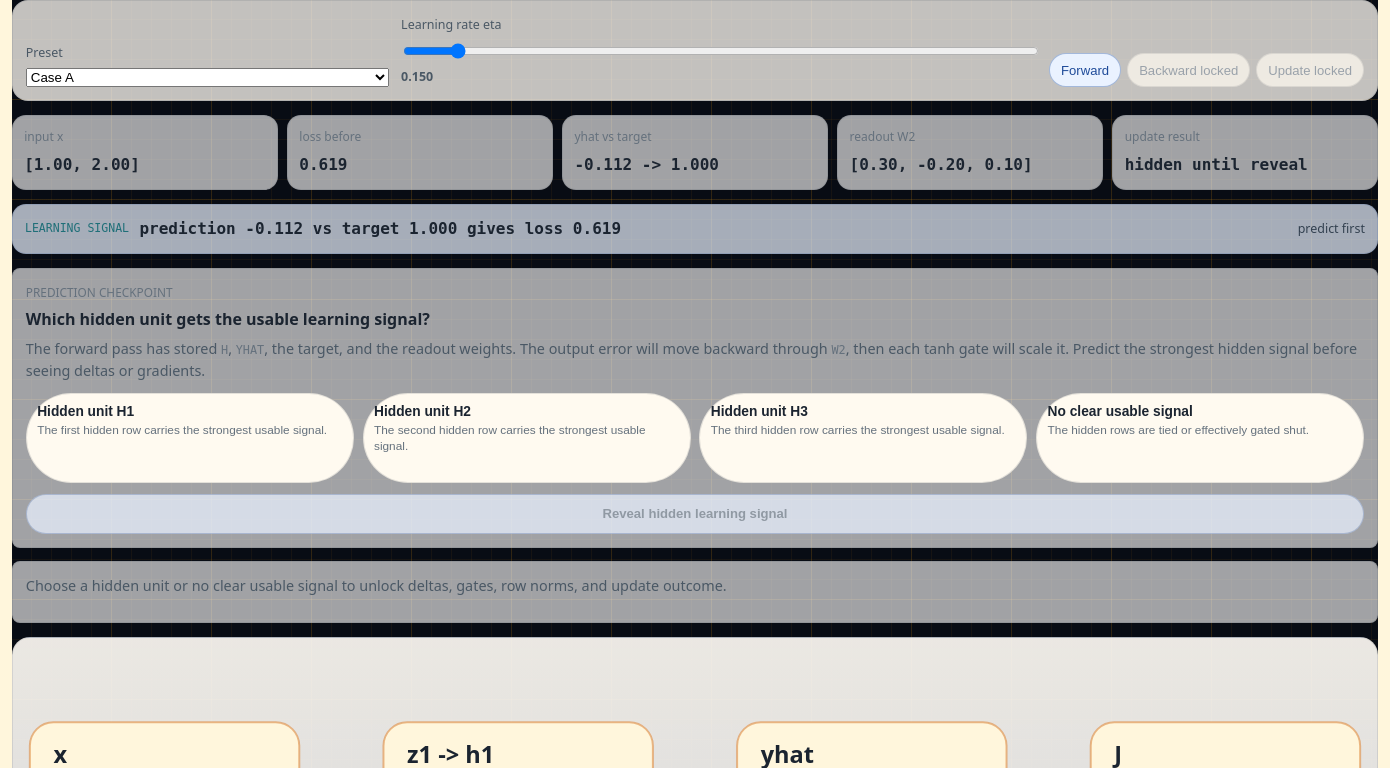
Test: BackpropagationViz hidden learning-signal reveal › shows forward state but hides backward/update values before reveal
The width and height of the screenshot is (1390, 768).
Expected: the button "Reveal hidden learning signal" is disabled, [26,494,1364,534]
Expected: the button "Backward locked" is disabled, [1127,53,1250,87]
Step 1. Click the button "Hidden unit H1" → (190, 438), box [26,393,354,483]
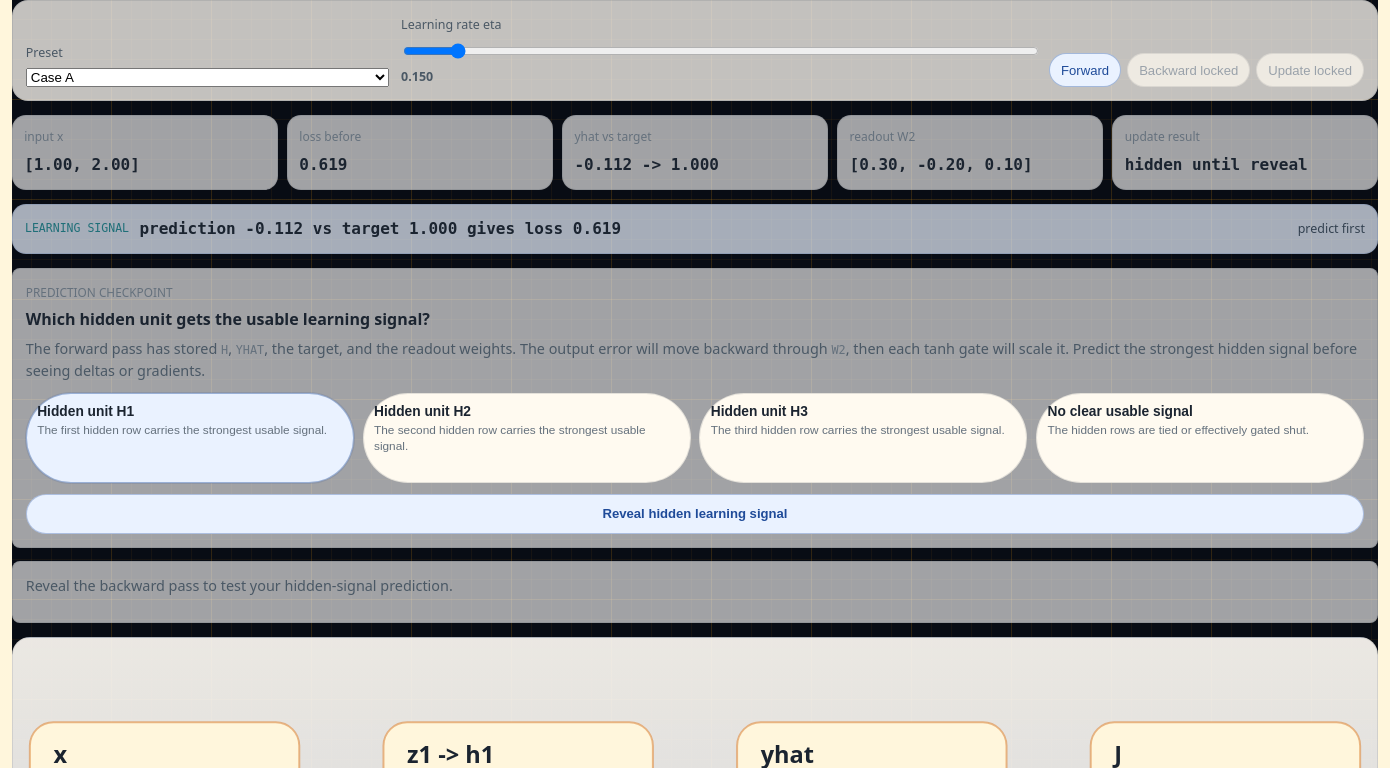
Expected: the button "Reveal hidden learning signal" is enabled, [26,494,1364,534]
